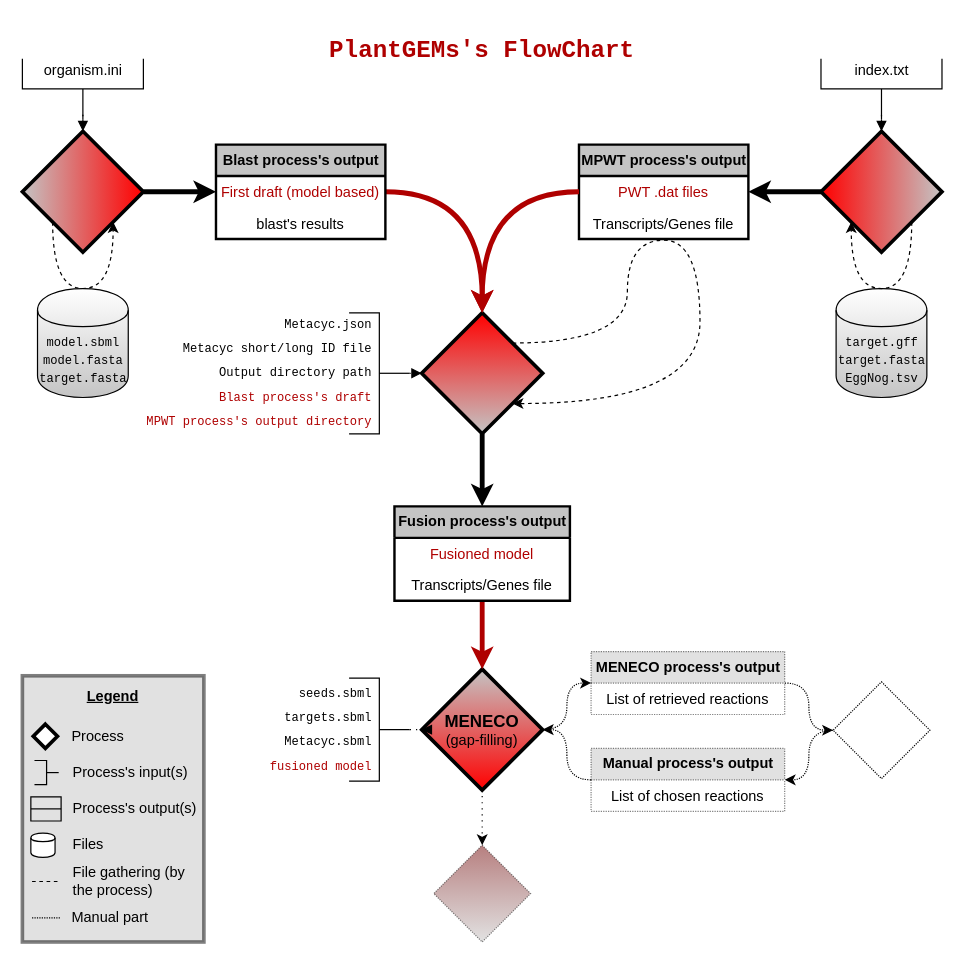
This 964x964 diagram has some shape labels left out. The shapes that lost their labels are listed below. From the top down, each one's centre as x and y in pixels, then its label:
the point at 82,191: BLAST (model based)
the point at 881,191: MPWT (Pathway Tools)
the point at 481,372: FUSION
the point at 881,730: Manual Curation
the point at 482,893: Analysis (FBA...)
